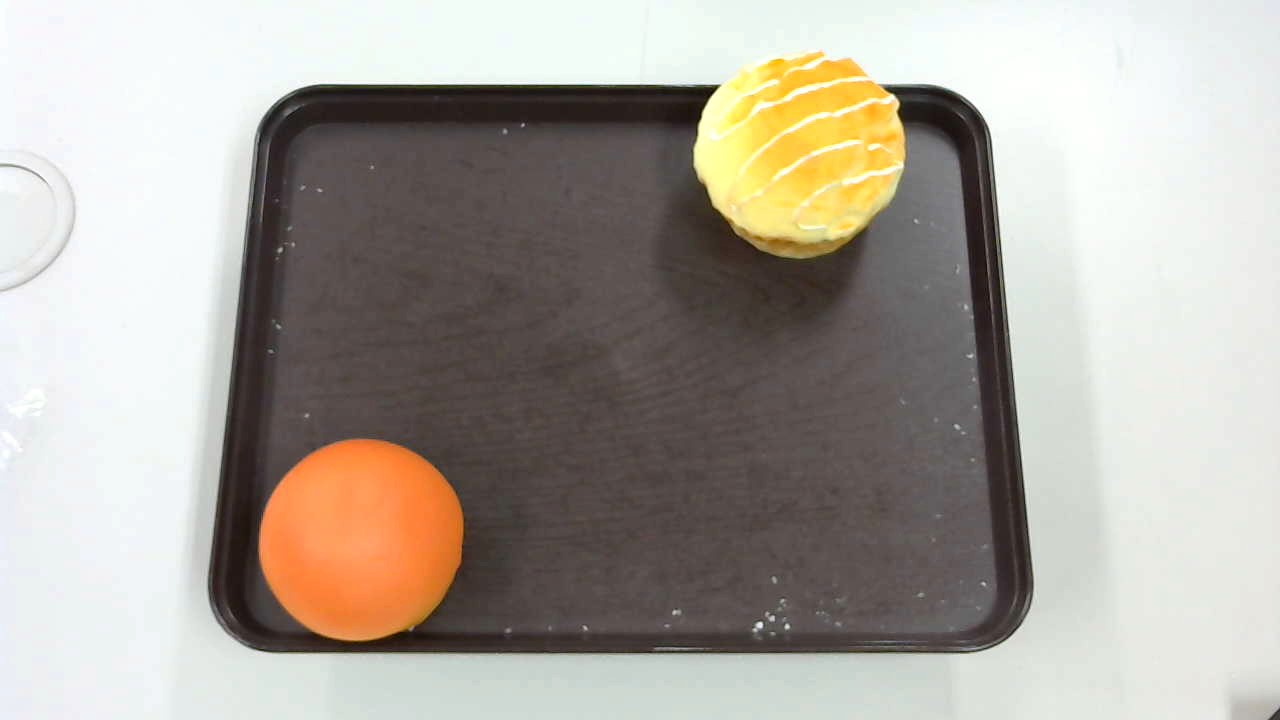bun: (258, 439, 463, 641)
cupcake: (693, 50, 906, 258)
